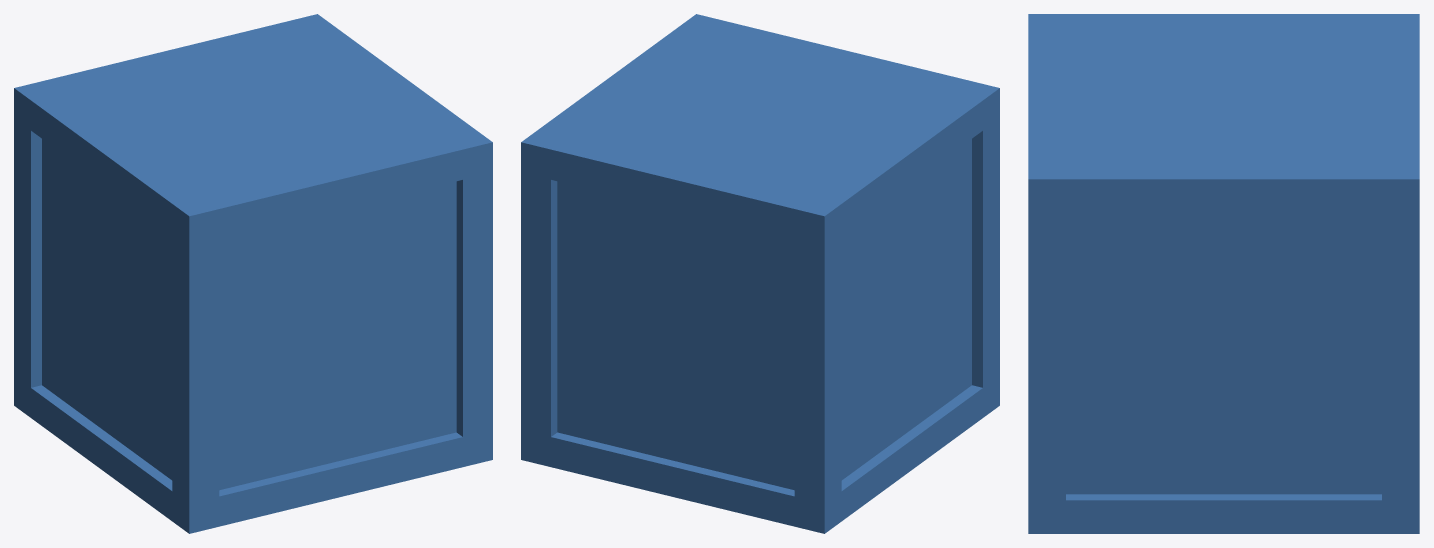
The model's file is Caja.fbx.
The picture shows the model from 3 angles, left to right: view 1: azimuth 30°, elevation 25°; view 2: azimuth 150°, elevation 25°; view 3: azimuth 270°, elevation 25°; orthographic projection. The views are drawn at different scales.
Parts seen in each view (by area): view 1: Cube; view 2: Cube; view 3: Cube.
Part boxes in pixels (box(x1,y1,x2,y2)): Cube: box(14, 14, 492, 533); Cube: box(521, 14, 999, 533); Cube: box(1028, 14, 1419, 533).
Bounding box in the file's own units: 100 × 100 × 100.
